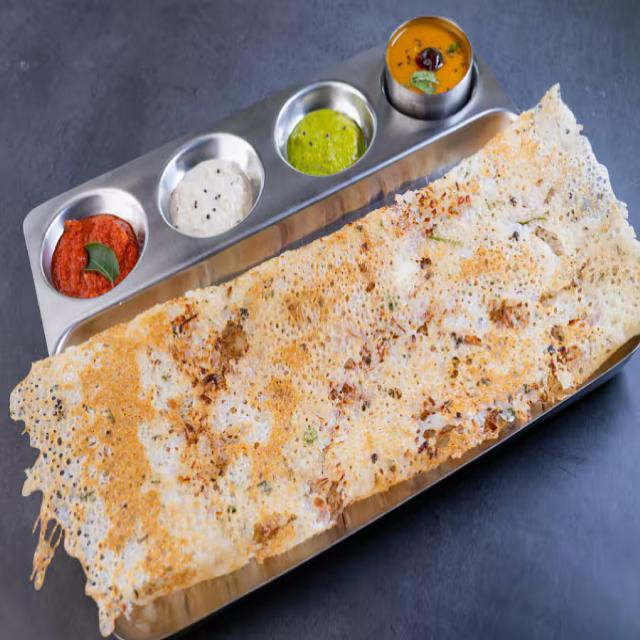DOSA: (13, 84, 639, 637)
GREEN CHUTNEY: (288, 105, 363, 177)
RED CHUTNEY: (48, 212, 139, 298)
SAMBAR: (392, 25, 467, 95)
WHITE CHUTNEY: (169, 158, 252, 243)
